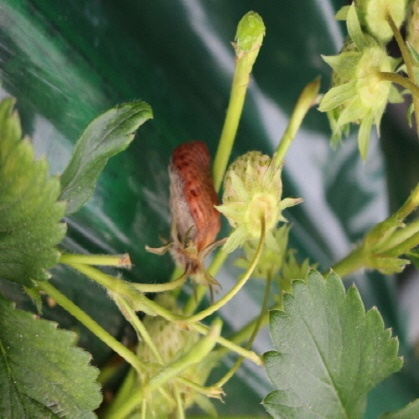Gray_Mold: (145, 128, 228, 278)
